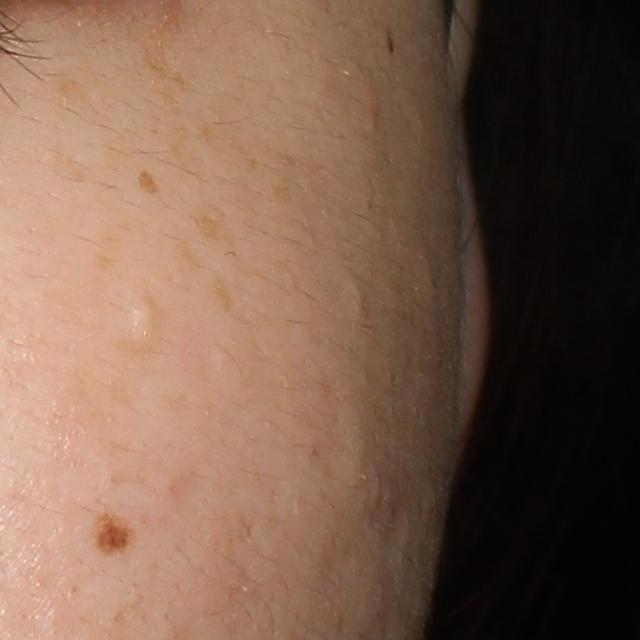comedo: (120, 288, 161, 342)
melasma: (204, 270, 235, 314)
nevus: (91, 511, 134, 557), (384, 31, 398, 57)
papule: (362, 88, 383, 114)
